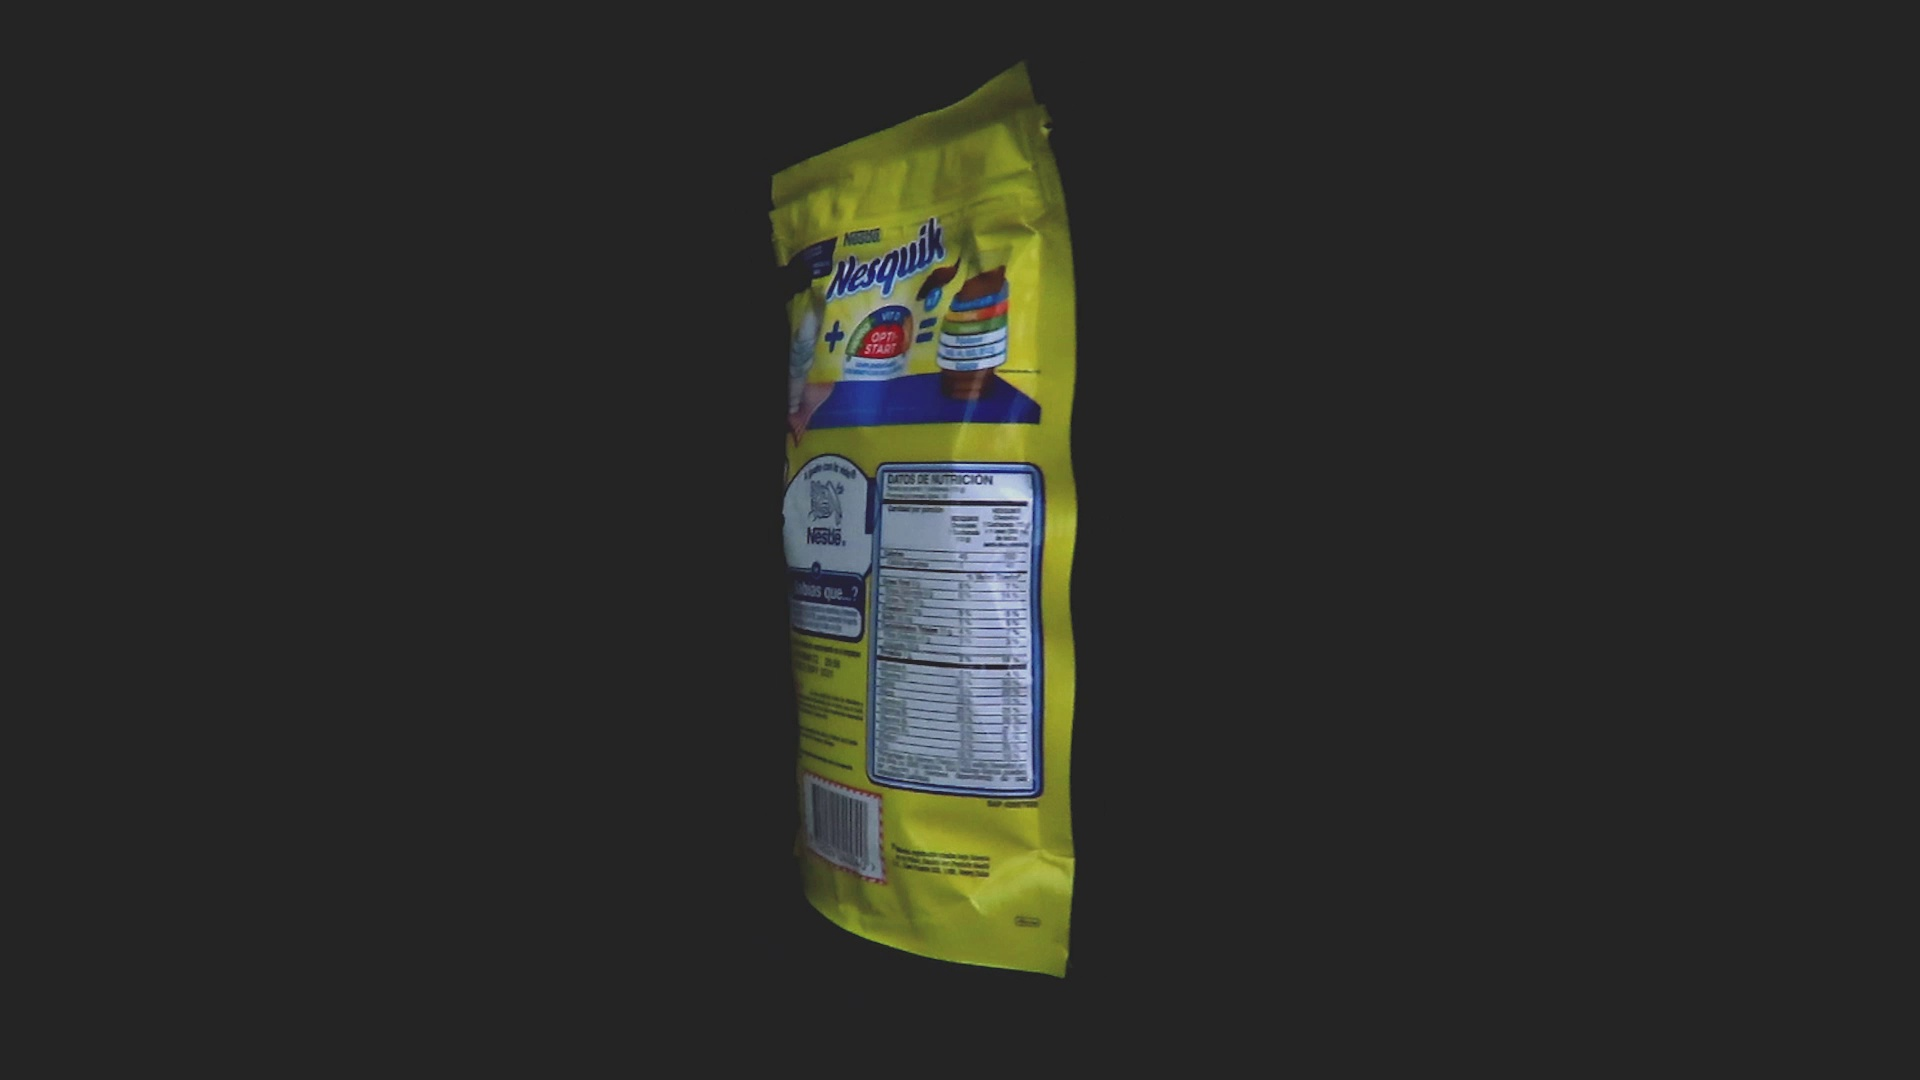COL0170303DYP20000: (774, 187, 1084, 984)
